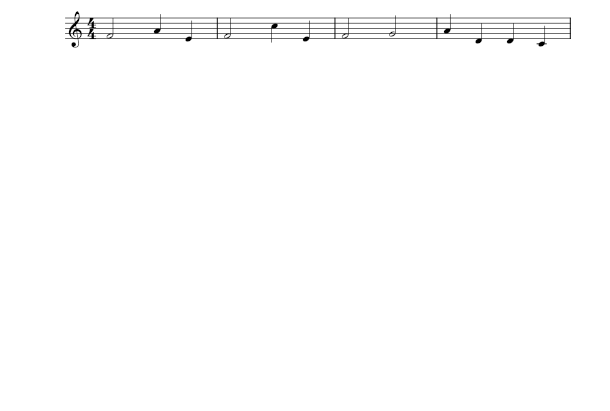Treble Clef: (64, 7, 86, 52)
